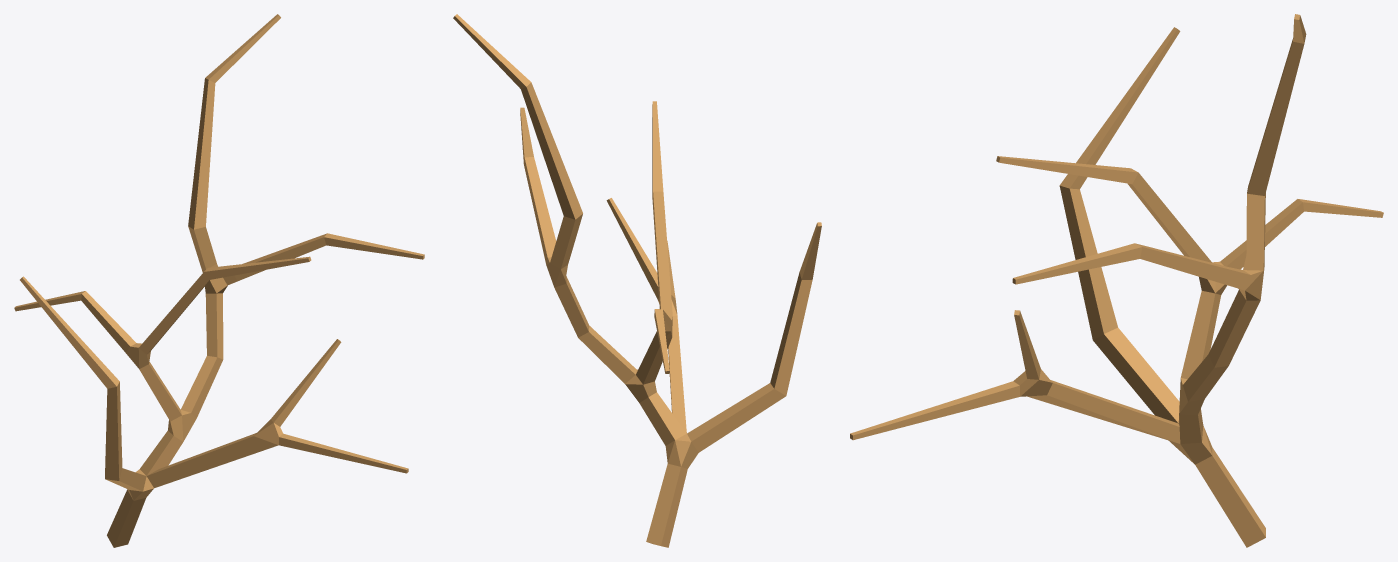
The model's file is Thorns_13.fbx.
3 renders of one model, left to right at view 1: azimuth 30°, elevation 25°; view 2: azimuth 150°, elevation 25°; view 3: azimuth 270°, elevation 25°, orthographic. The views are drawn at different scales.
Visible parts, largest first — view 1: Thorns_13; view 2: Thorns_13; view 3: Thorns_13.
Part boxes in pixels (x1,y1,x2,y2): Thorns_13: (14, 14, 424, 547); Thorns_13: (453, 14, 821, 547); Thorns_13: (850, 14, 1383, 547).
Bounding box in the file's own units: 74.05 × 97.25 × 72.85.
